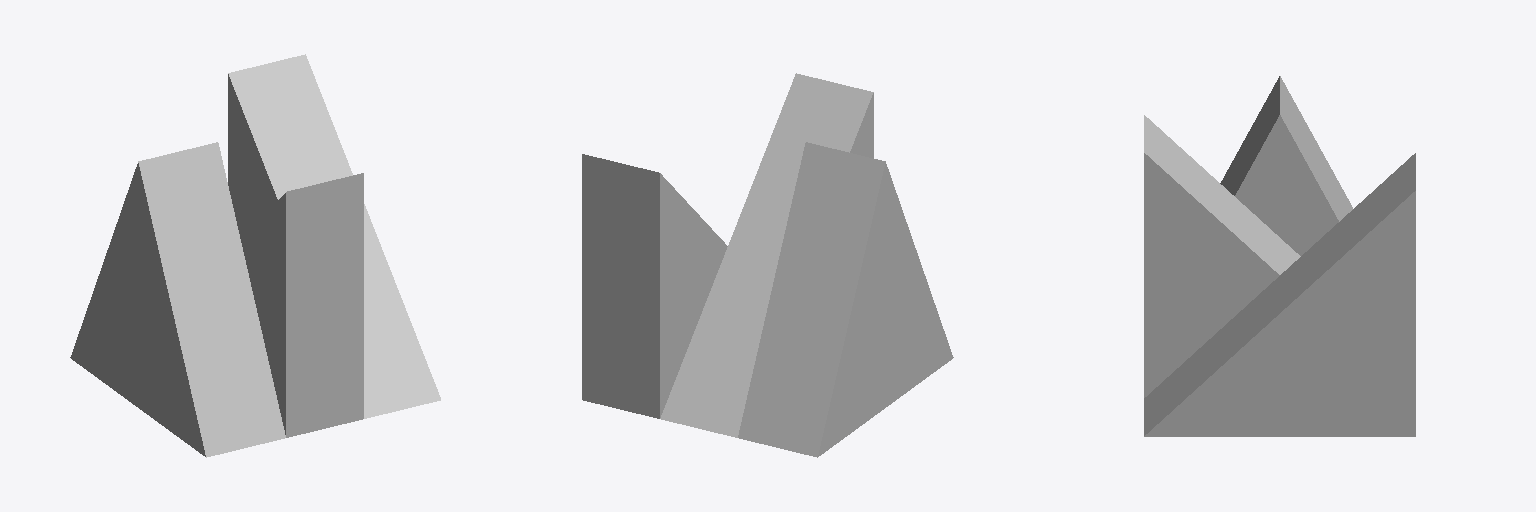
Rendered from TestObject2.obj.
3 views of the same model, side by side, from view 1: azimuth 30°, elevation 25°; view 2: azimuth 150°, elevation 25°; view 3: azimuth 270°, elevation 25° (orthographic).
Visible parts, largest first — view 1: TestObject2; view 2: TestObject2; view 3: TestObject2.
Boxes of the visible parts, <box> form: TestObject2: <box>70,54,440,457</box>; TestObject2: <box>582,73,953,457</box>; TestObject2: <box>1144,76,1415,436</box>.
Bounding box in the file's own units: 1 × 1 × 1.